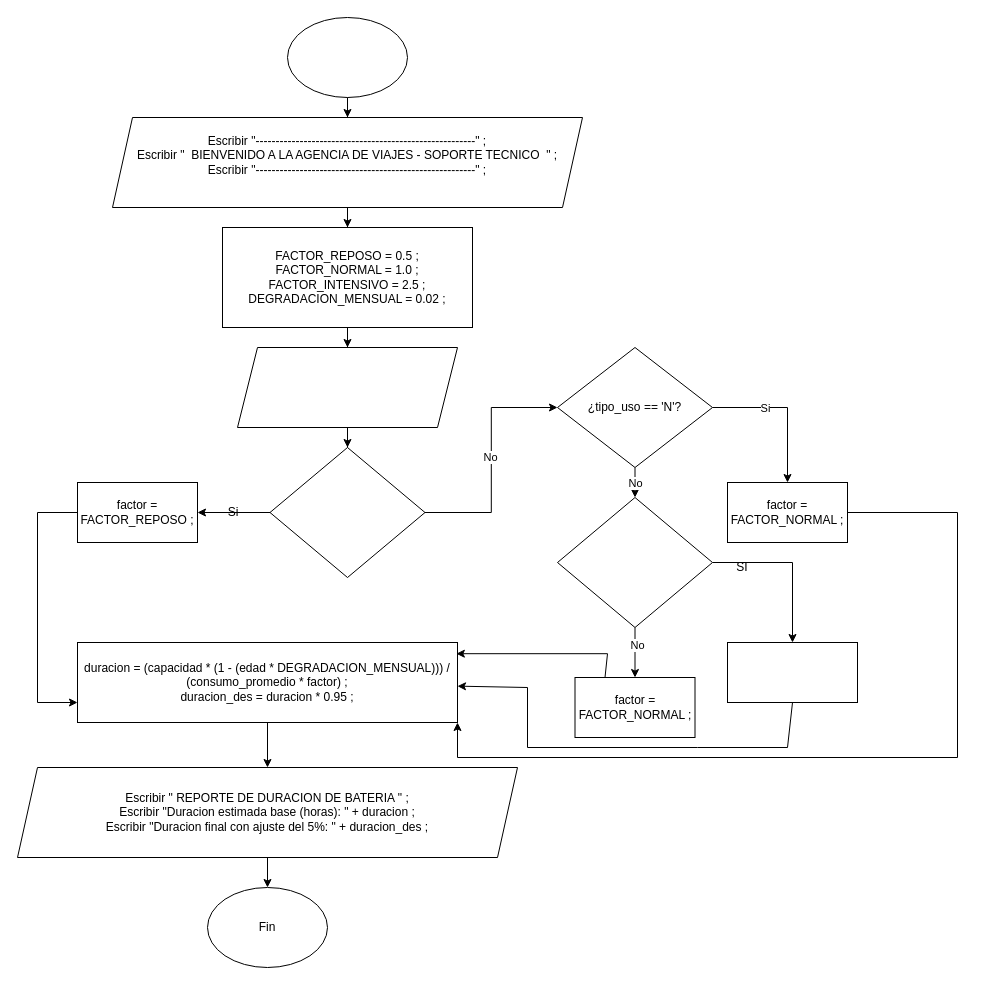
Image size: 983x985. Some labels were removed from this diagram. The shapes that lost their labels are listed below. From the top down, each one's centre as x and y in pixels, then its label:
the point at 347,57: Inicio
the point at 347,387: Leer capacidad ; Leer consumo_promedio ; Leer tipo_uso ; Leer edad ;
the point at 347,512: ¿tipo_uso == 'R'?
the point at 634,562: ¿tipo_uso == 'I'?
the point at 792,672: factor = FACTOR_INTENSIVO ;
